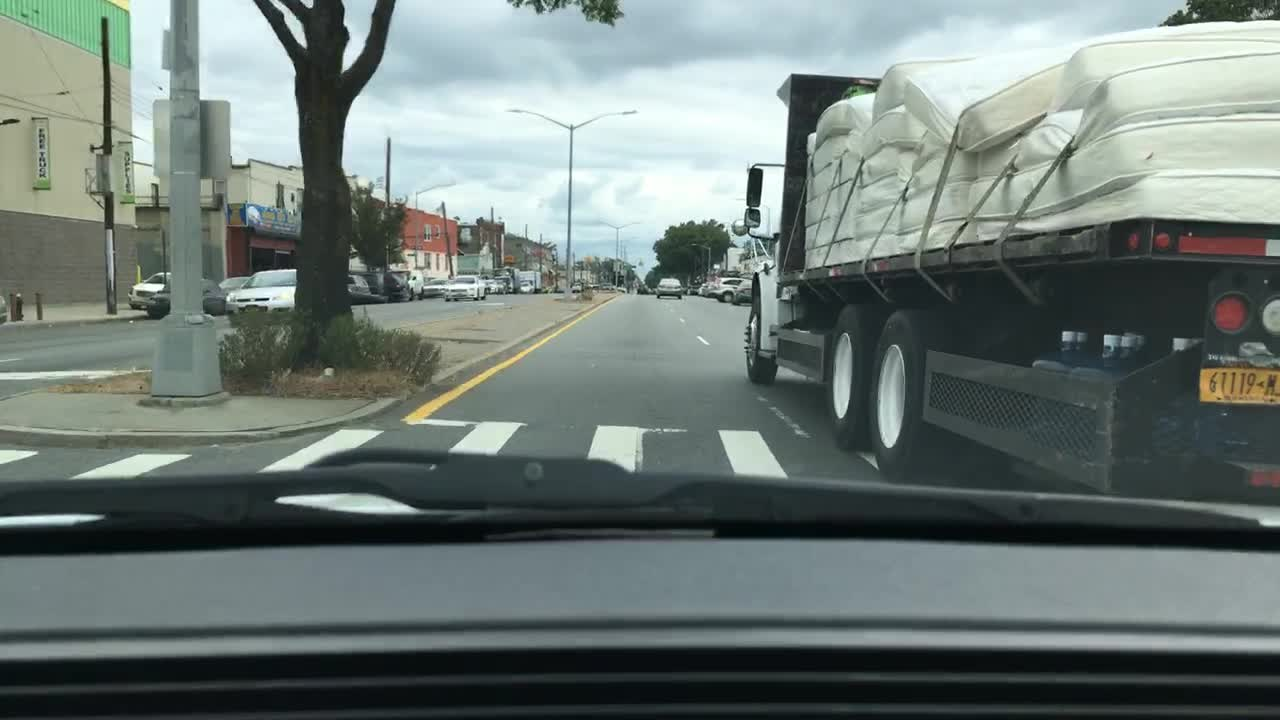bus: (492, 267, 521, 294)
car: (227, 268, 298, 329), (145, 279, 225, 319), (127, 270, 173, 309), (353, 272, 411, 300), (444, 274, 485, 304), (711, 275, 741, 304), (729, 275, 754, 306), (349, 274, 373, 303), (405, 270, 424, 299), (656, 277, 681, 299), (420, 278, 450, 296), (492, 275, 515, 296), (220, 275, 250, 290), (479, 277, 499, 294), (516, 280, 535, 295), (706, 277, 717, 299), (692, 283, 711, 295), (686, 284, 701, 296), (540, 283, 555, 295), (598, 280, 613, 289), (572, 281, 582, 294), (586, 280, 598, 289), (616, 285, 627, 291)
person: (628, 275, 637, 301)
traffic light: (434, 220, 440, 240)
traffic sign: (152, 98, 230, 180), (162, 27, 170, 72), (421, 223, 430, 244), (502, 254, 516, 262), (611, 262, 620, 273)
truck: (731, 17, 1277, 506), (516, 270, 541, 294)
